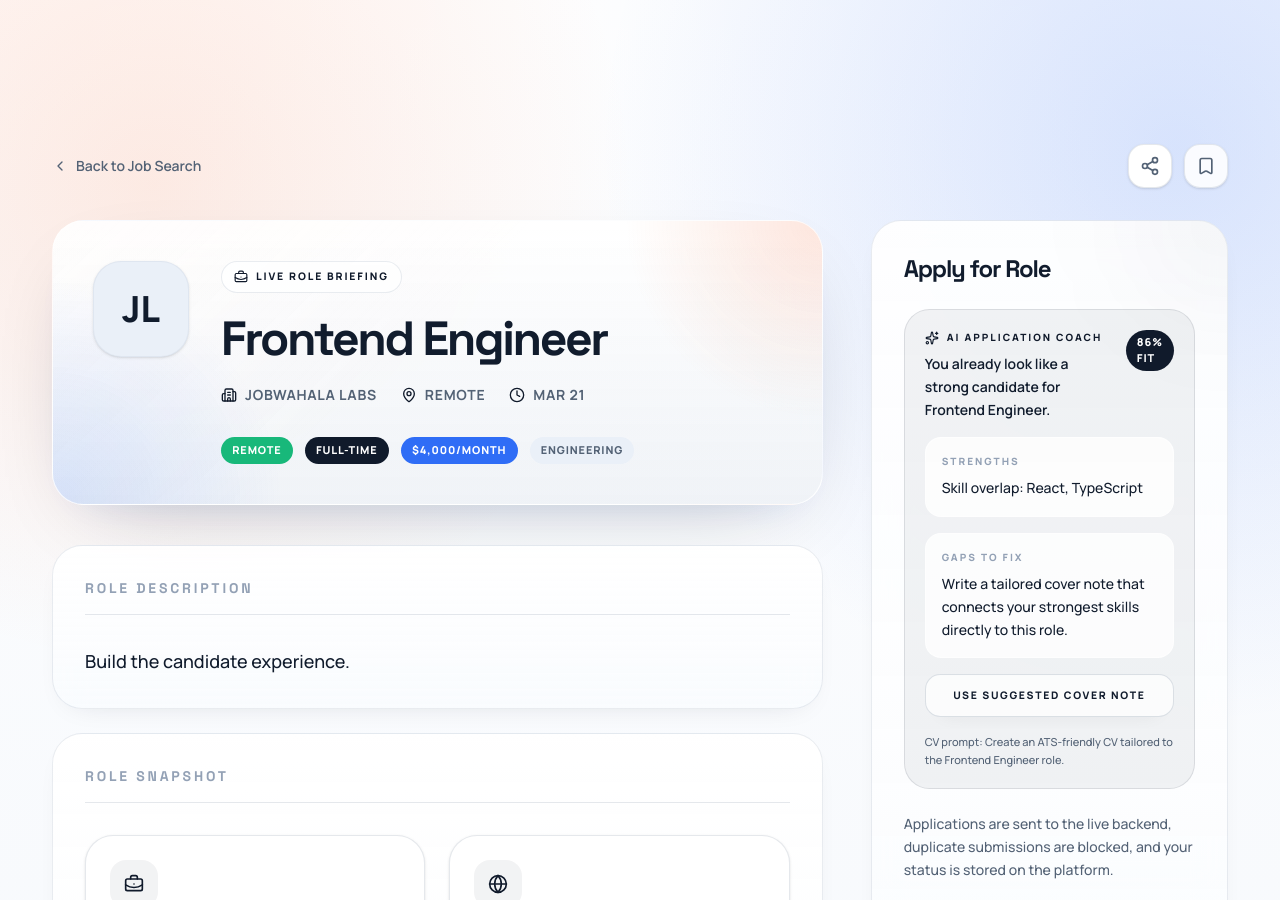
JobDetails application flow › loads role-specific application coaching and lets the seeker use the suggested cover note
This screenshot has width=1280, height=900.
Check: the text "AI Application Coach" is shown, box [925,330,1110,345]
Check: the text "86% fit" is shown, box [1126,330,1174,371]
Click the button "Use Suggested Cover Note" at (1049, 696), box [925,674,1174,717]
(page scrolled)
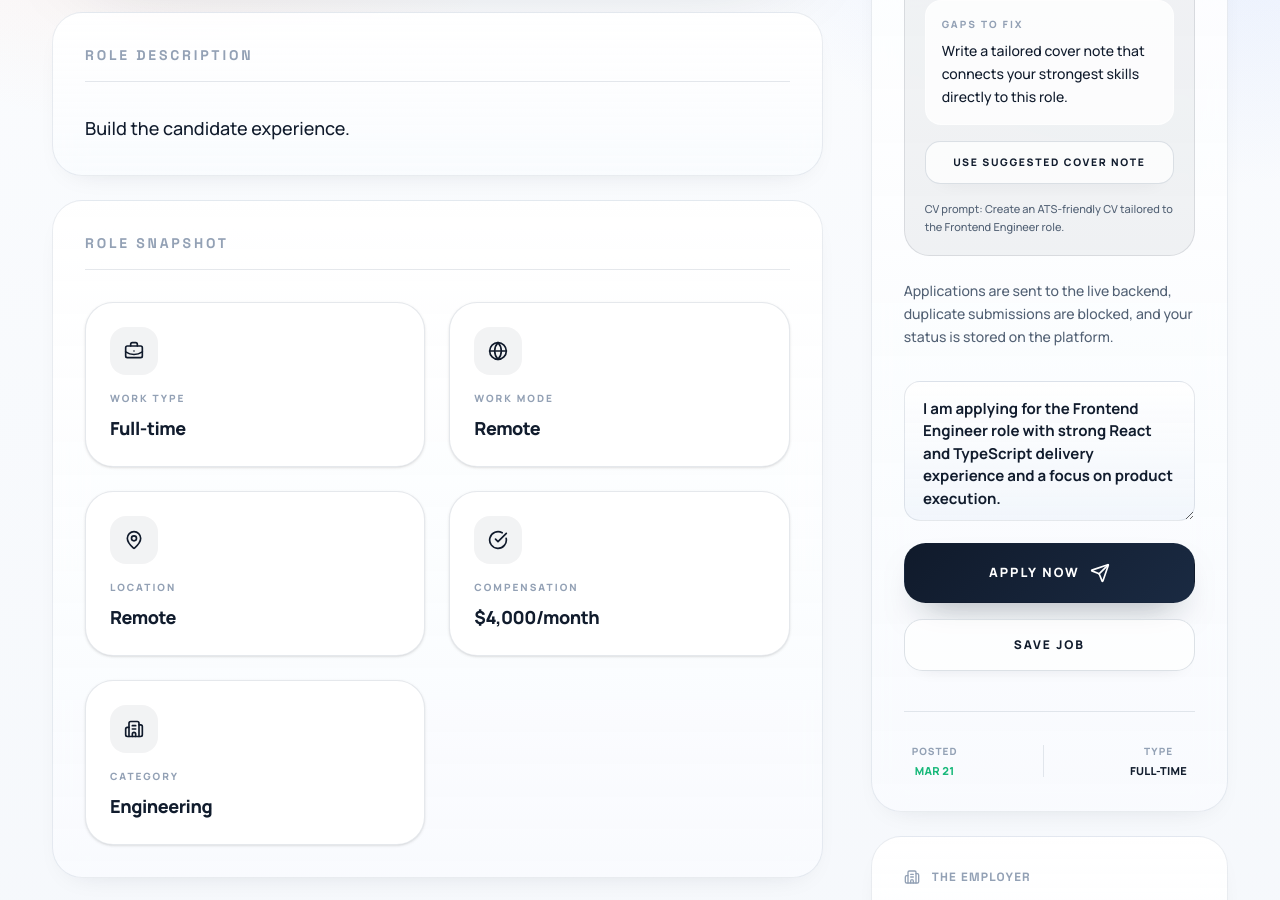
Check: the text box showing "I am applying for the Frontend Engineer role with strong React and TypeScript delivery experience and a focus on product" is shown, box [904,381,1195,521]
